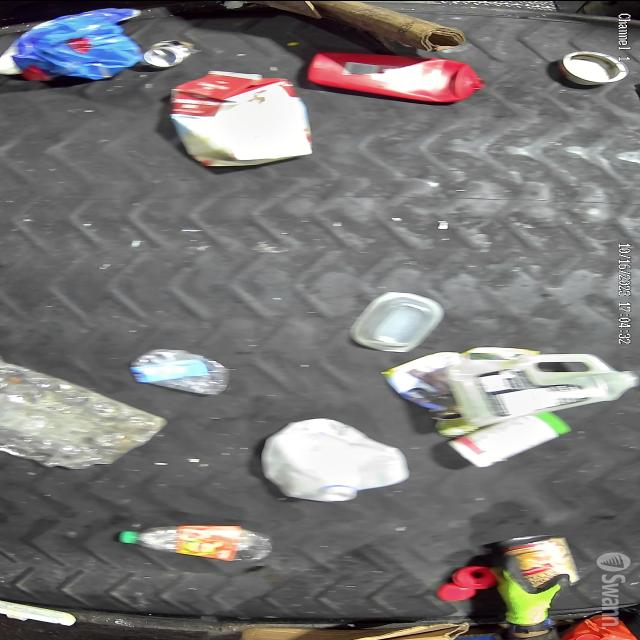can: (499, 533, 585, 585), (141, 38, 204, 68)
milk_jug: (264, 418, 414, 504), (447, 354, 640, 417)
non_white_jug: (172, 69, 312, 167), (13, 5, 145, 86), (313, 54, 489, 100)
plastic_bottle: (117, 529, 286, 563)
